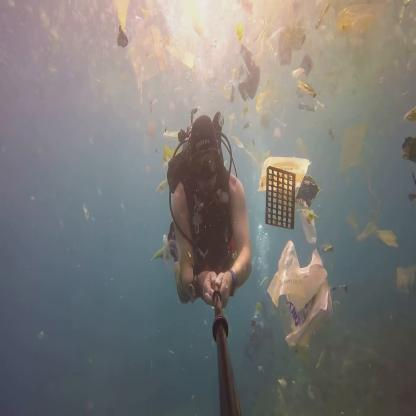Rác: (266, 238, 340, 332), (119, 20, 182, 92), (334, 120, 384, 199), (236, 42, 267, 112), (263, 164, 297, 224), (290, 56, 324, 115), (334, 2, 378, 44), (276, 26, 312, 72), (358, 214, 402, 250), (184, 4, 204, 38), (314, 1, 333, 31), (297, 80, 319, 104), (231, 0, 253, 15)
